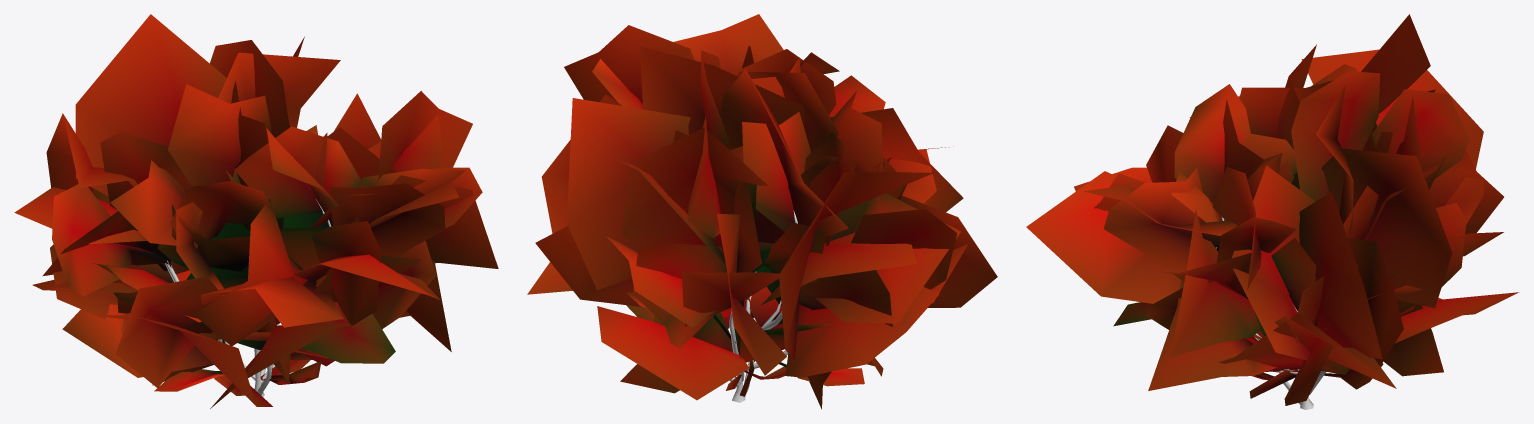
Rendered from ShrubBush_A.fbx.
The picture shows the model from 3 angles, left to right: view 1: azimuth 30°, elevation 25°; view 2: azimuth 150°, elevation 25°; view 3: azimuth 270°, elevation 25°; orthographic projection. The views are drawn at different scales.
Parts seen in each view (by area): view 1: ShrubBush_A_Leaves_LOD0, ShrubBush_A_Branch_LOD0; view 2: ShrubBush_A_Leaves_LOD0, ShrubBush_A_Branch_LOD0; view 3: ShrubBush_A_Leaves_LOD0.
Boxes of the visible parts, <box> form: ShrubBush_A_Leaves_LOD0: <box>14,14,498,408</box>; ShrubBush_A_Branch_LOD0: <box>165,199,331,396</box>; ShrubBush_A_Leaves_LOD0: <box>527,14,997,409</box>; ShrubBush_A_Branch_LOD0: <box>729,210,797,402</box>; ShrubBush_A_Leaves_LOD0: <box>1026,14,1519,405</box>.
Size of what is drawn, in the model's own units: 2.2 by 1.91 by 2.35.
